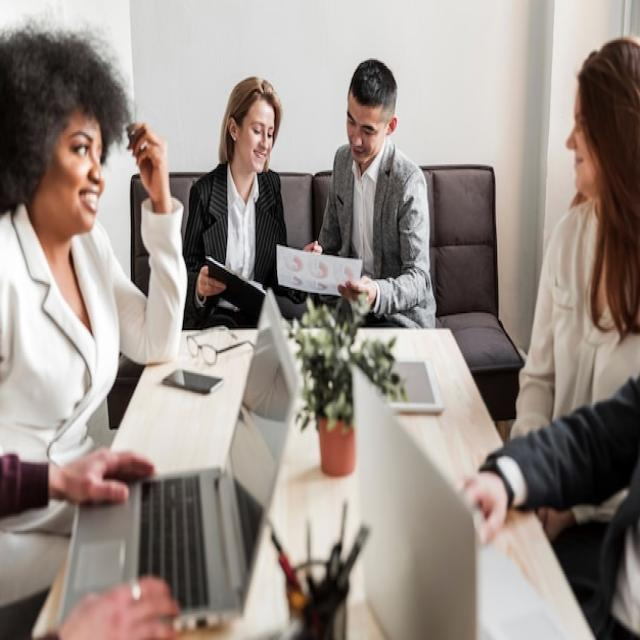adult: (0, 32, 186, 508), (510, 38, 640, 508), (314, 57, 435, 331), (183, 80, 289, 325)
